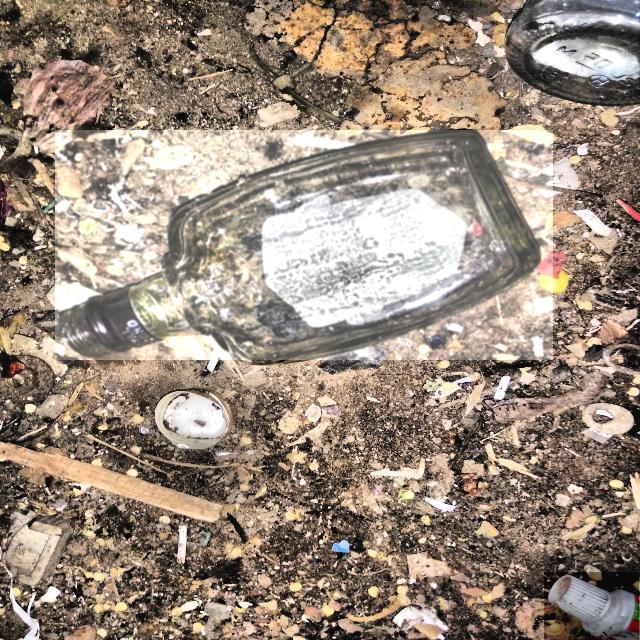anorganik: (56, 130, 552, 360), (502, 0, 640, 106), (545, 572, 640, 640)
